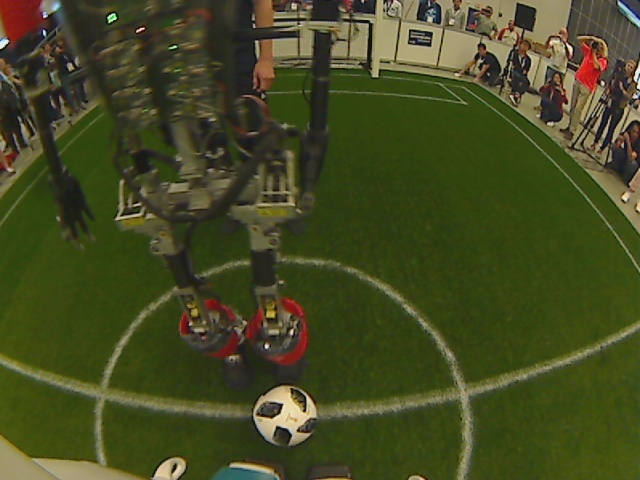ball: (248, 383, 321, 452)
